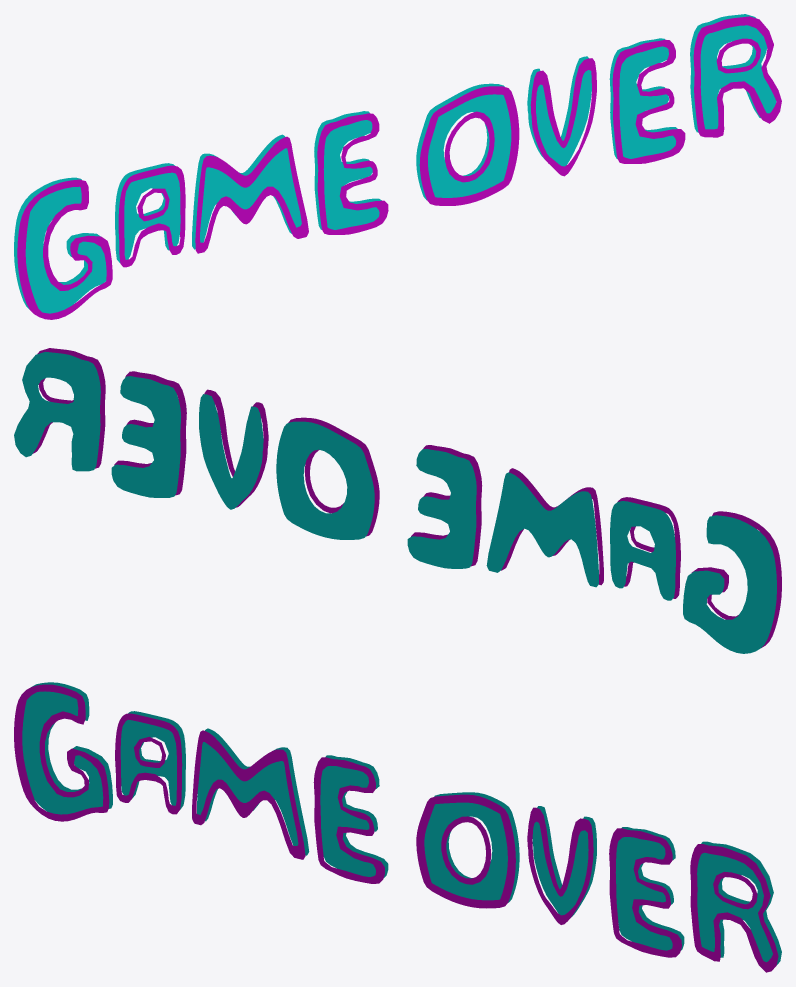
Rendered from mesh_text_gameover.fbx.
3 renders of one model, top to bottom at view 1: azimuth 30°, elevation 25°; view 2: azimuth 150°, elevation 25°; view 3: azimuth 330°, elevation 25°, orthographic.
Visible parts, largest first — view 1: mesh_text_gameover, mesh_text_gameover1; view 2: mesh_text_gameover, mesh_text_gameover1; view 3: mesh_text_gameover, mesh_text_gameover1.
Boxes of the visible parts, x1,y1,x2,y2 form: mesh_text_gameover: (14,14,776,313); mesh_text_gameover1: (17,16,781,319); mesh_text_gameover: (14,351,776,653); mesh_text_gameover1: (33,348,781,647); mesh_text_gameover: (22,682,781,965); mesh_text_gameover1: (14,684,778,972).
Size of the model in its own units: 0.2209 by 0.0377 by 0.00212.
